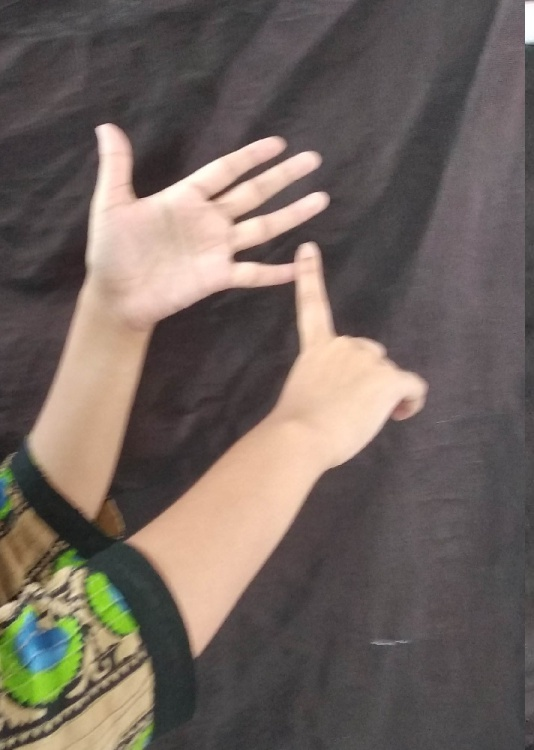i: (66, 103, 363, 382)
